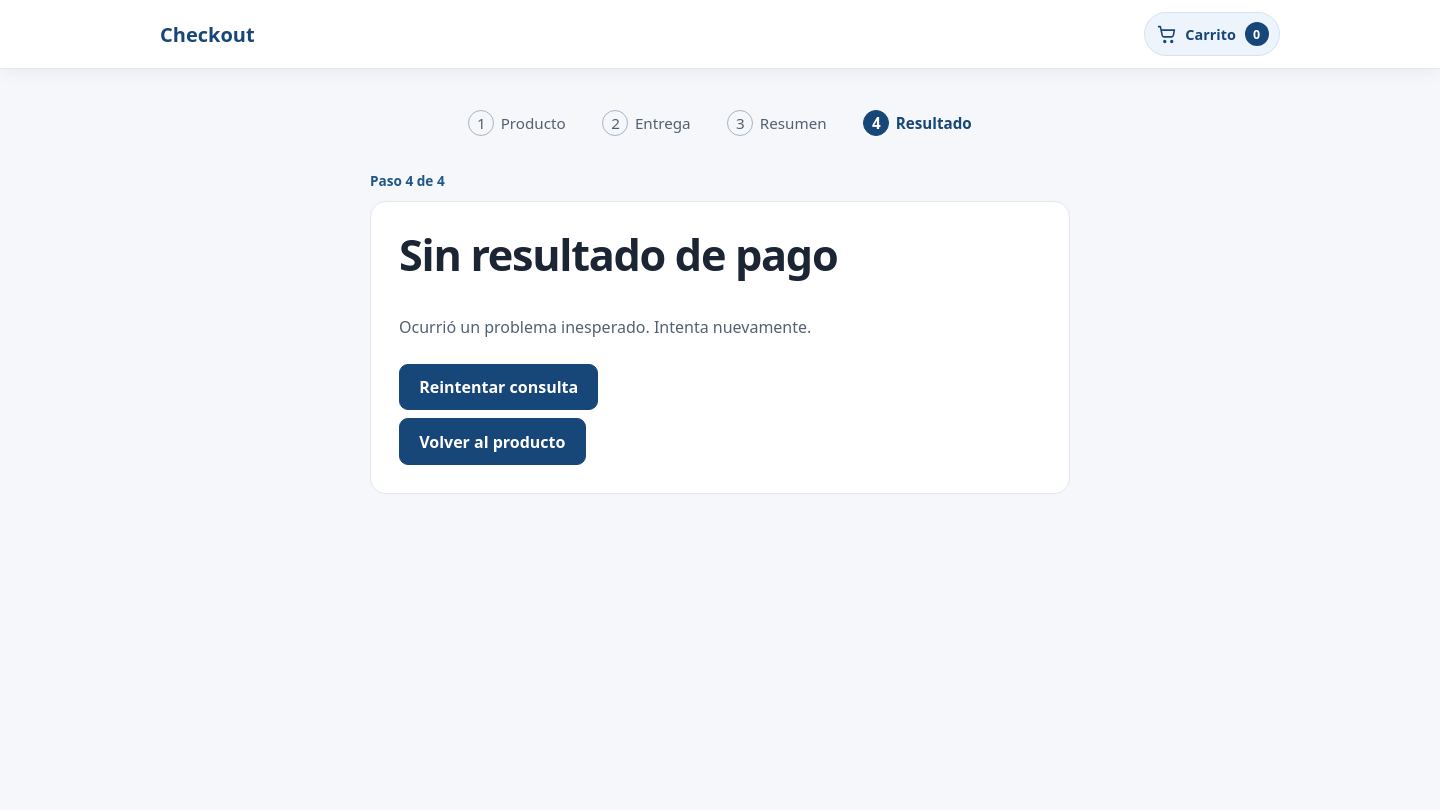
Test: resultado recupera un error de consulta sin crear un nuevo pago
Click the button "Reintentar consulta": [499, 387] box [399,364,598,410]
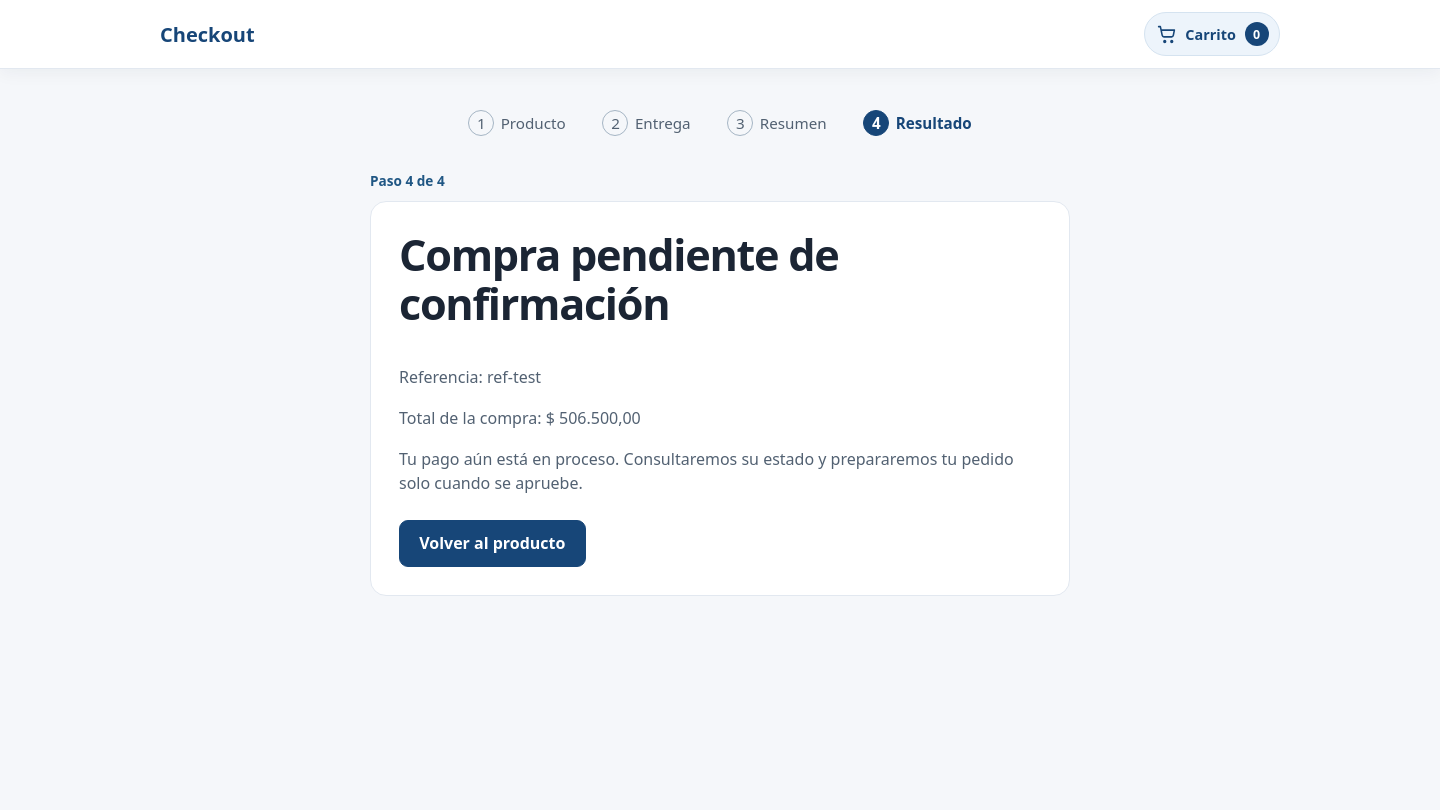
Check: the heading "Compra pendiente de confirmación" is shown, box [399,225,838,334]
